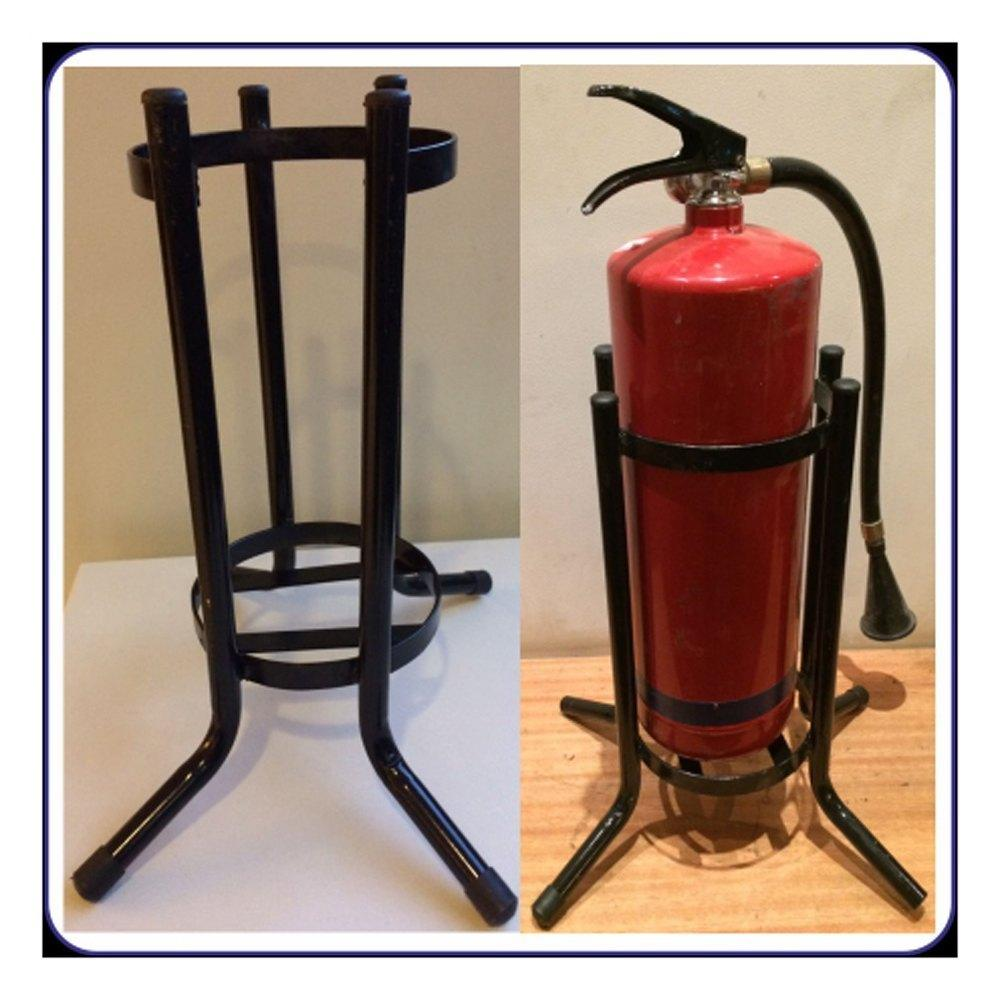floor-kept: (530, 76, 937, 924)
